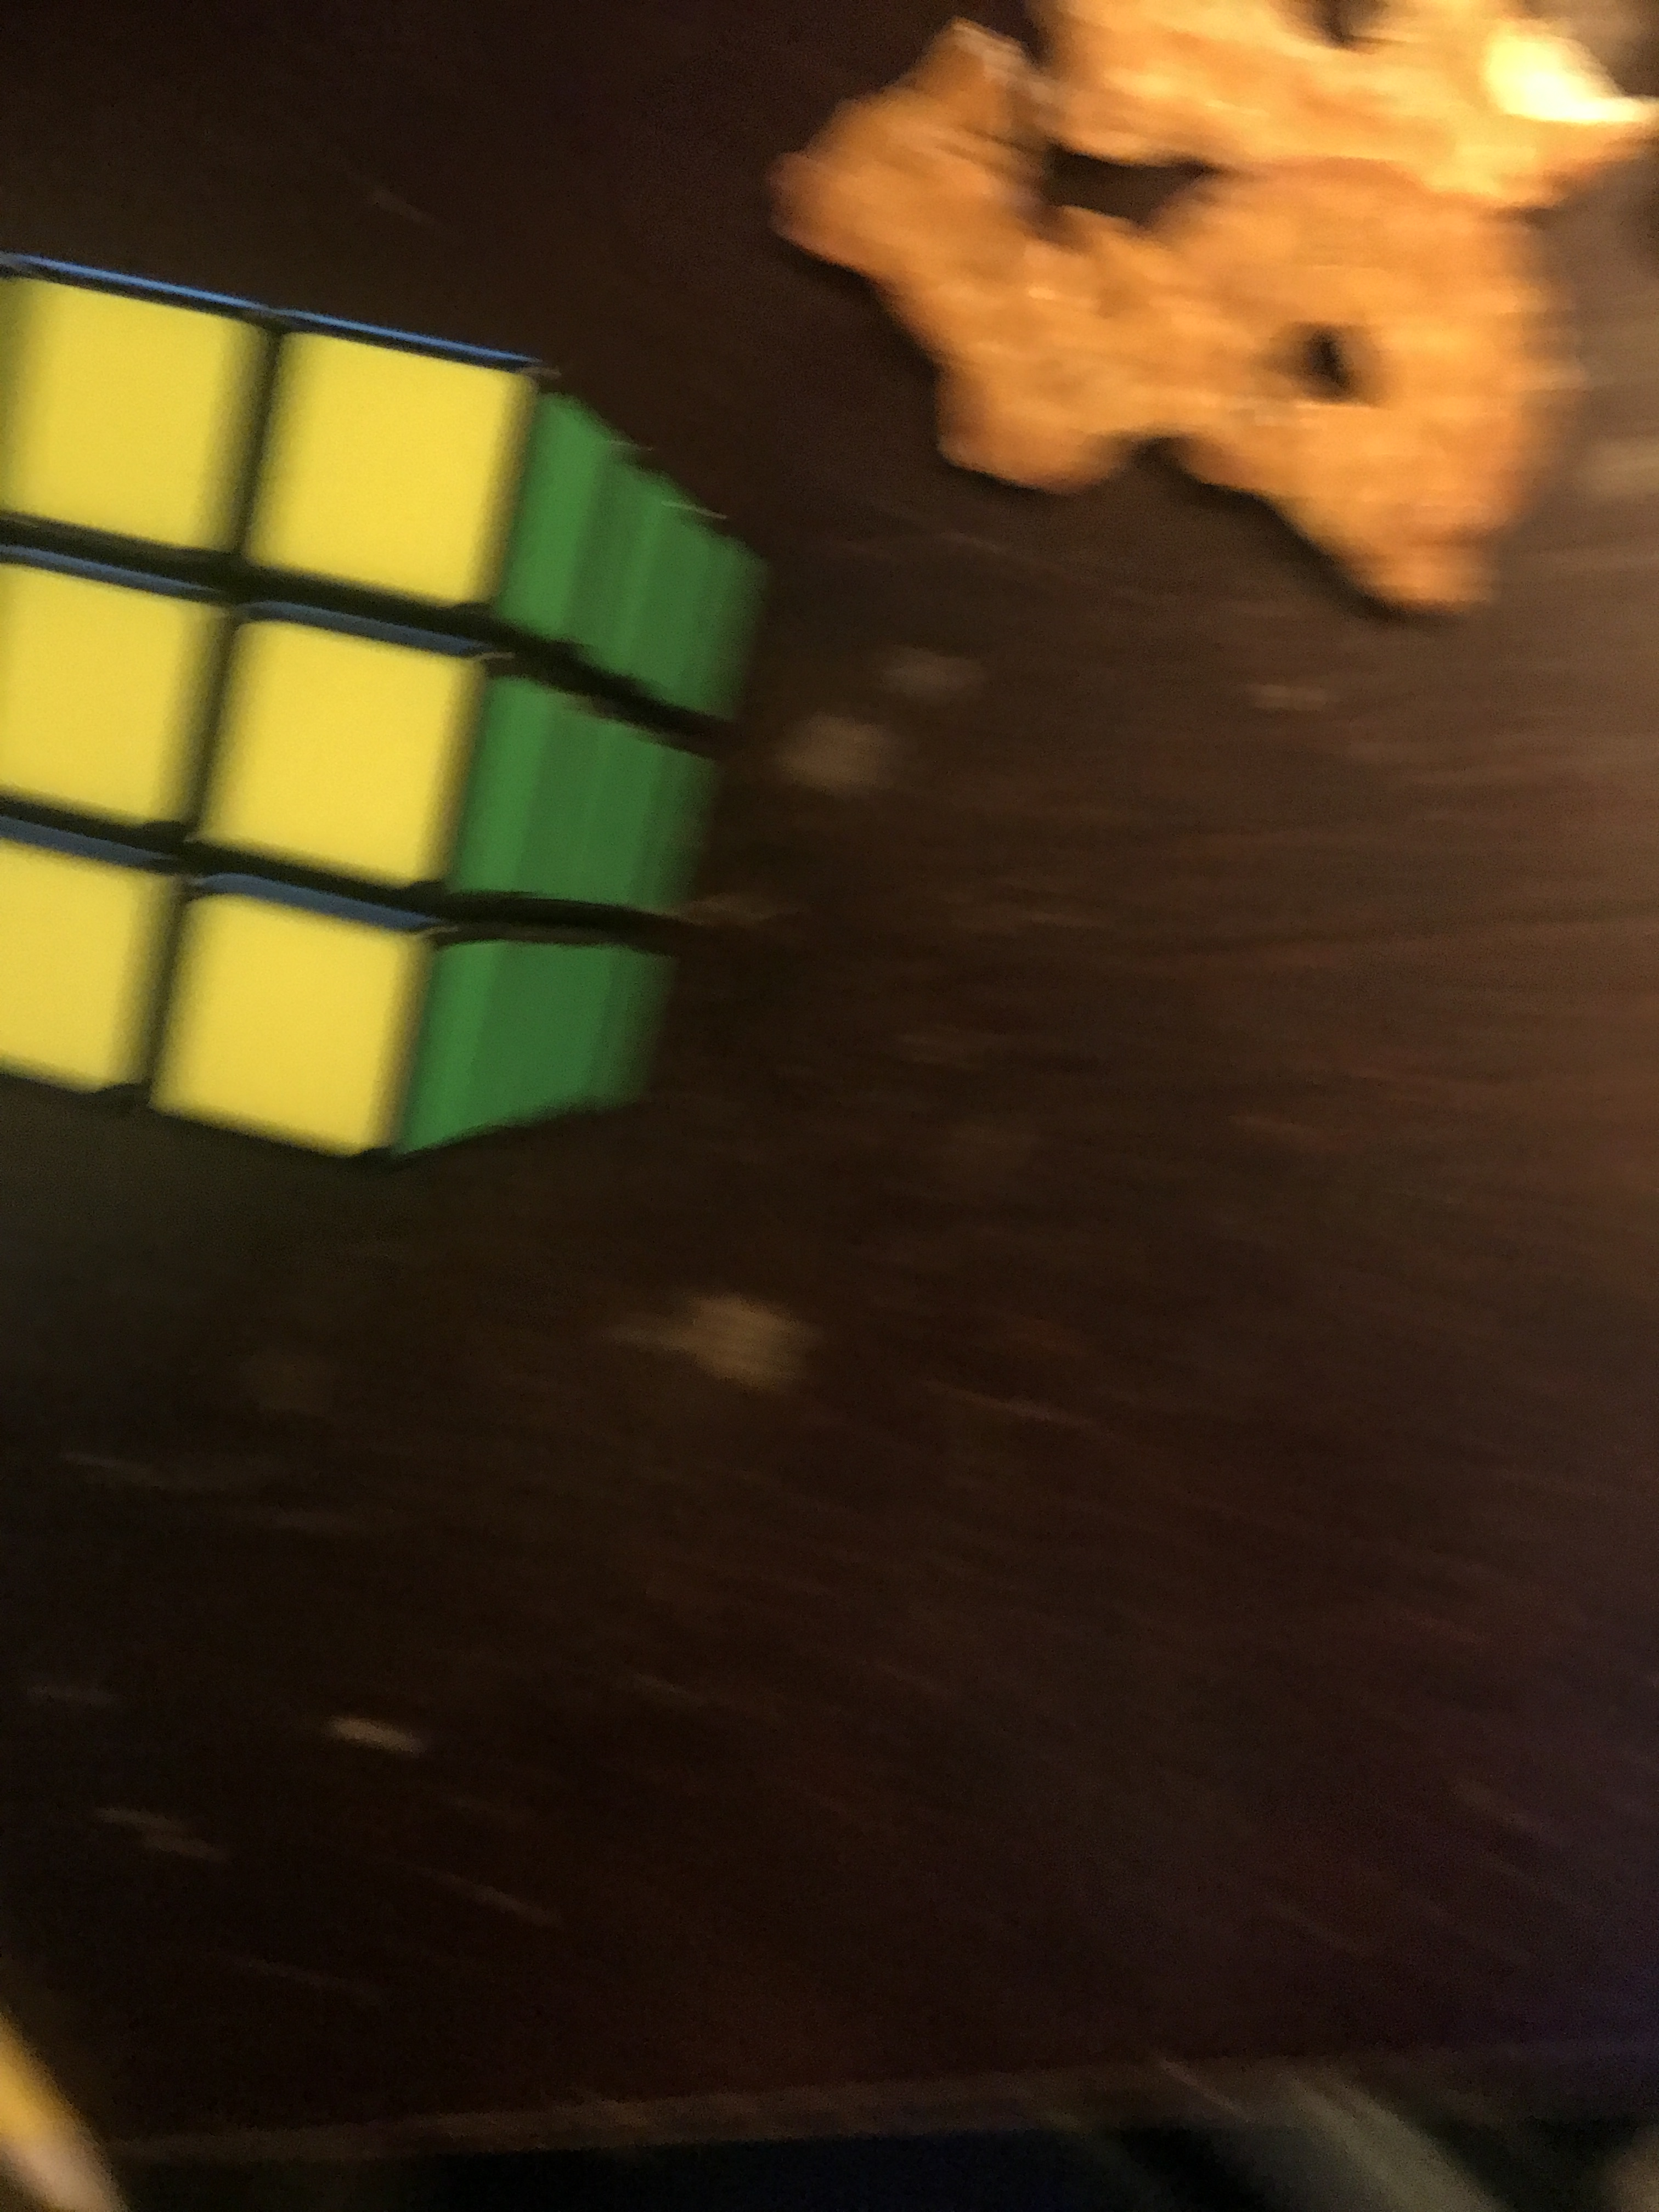rubiks: (5, 223, 770, 1188)
